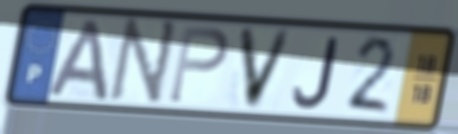2: (340, 33, 401, 120)
A: (44, 16, 111, 103)
J: (291, 36, 341, 111)
N: (104, 16, 181, 109)
P: (166, 23, 231, 106)
V: (236, 24, 296, 113)
